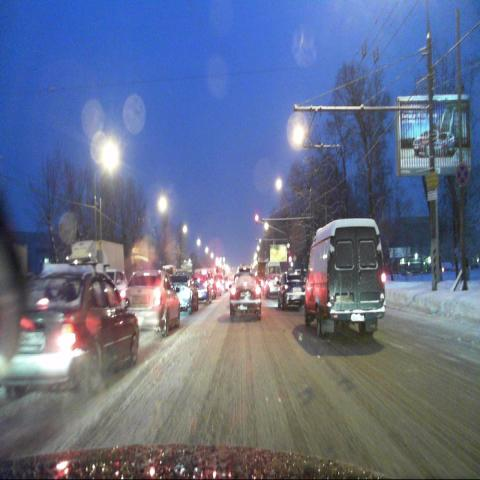3_27: (456, 162, 469, 188)
